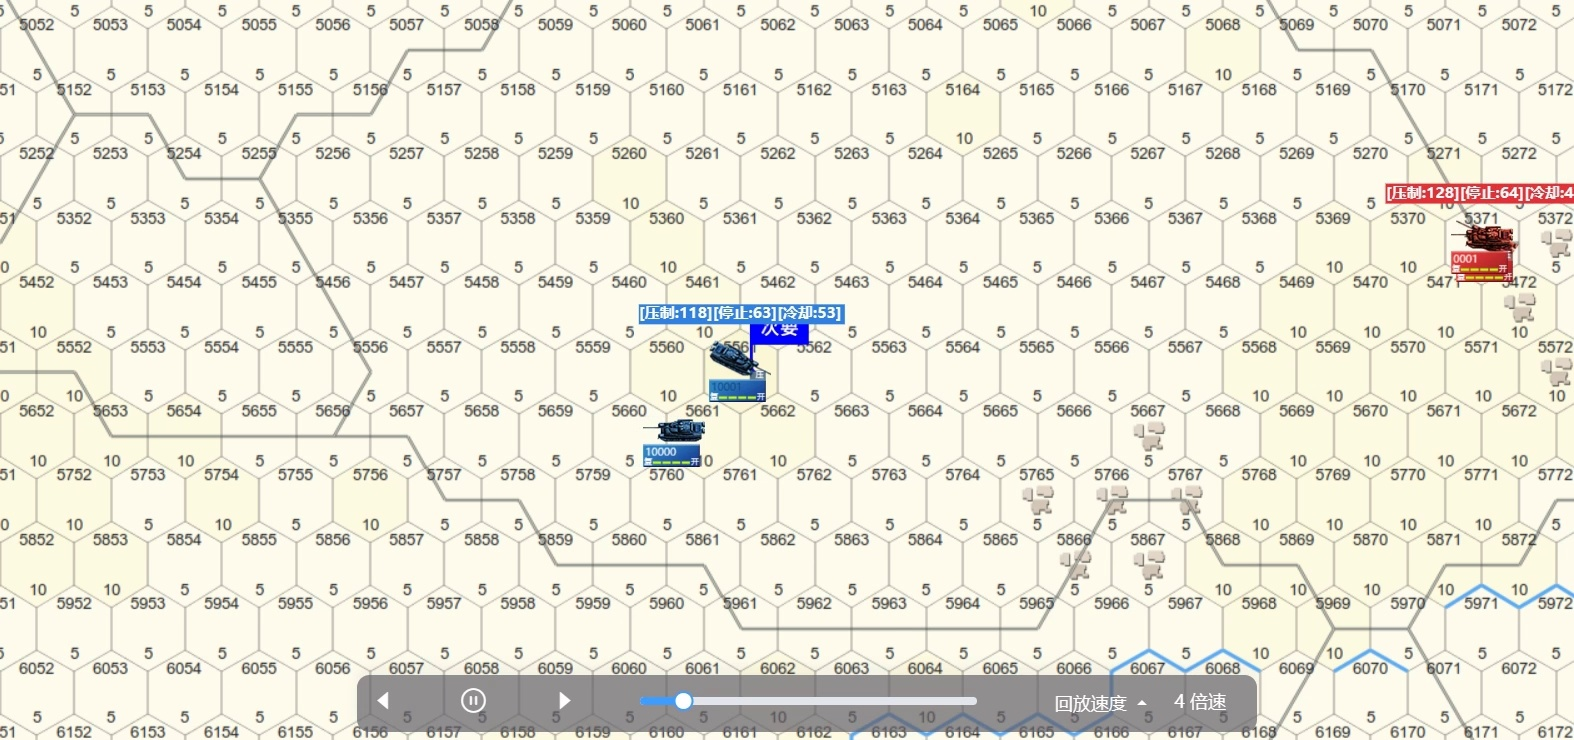blue_tank: (707, 345, 774, 404), (643, 413, 703, 474)
red_tank: (1451, 230, 1515, 286)
